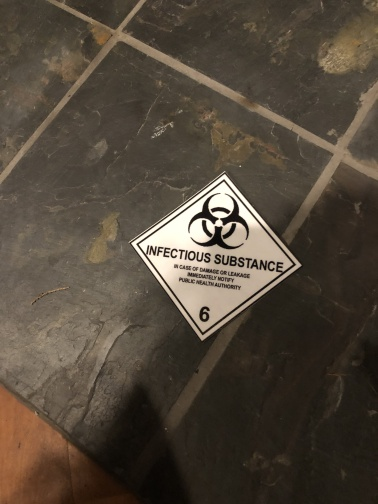InfectiousSubstance: (129, 171, 303, 341)
